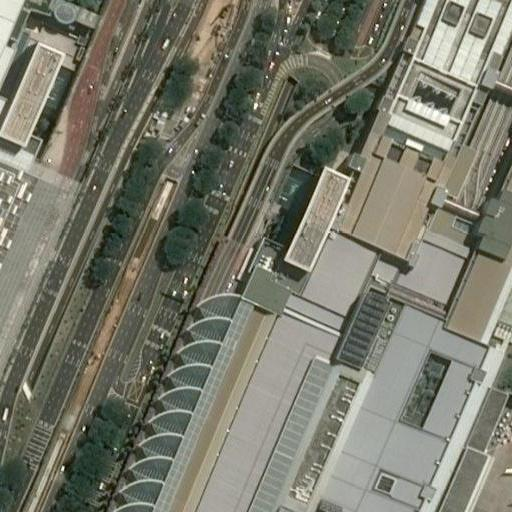Aircraft: (502, 441, 512, 512)
